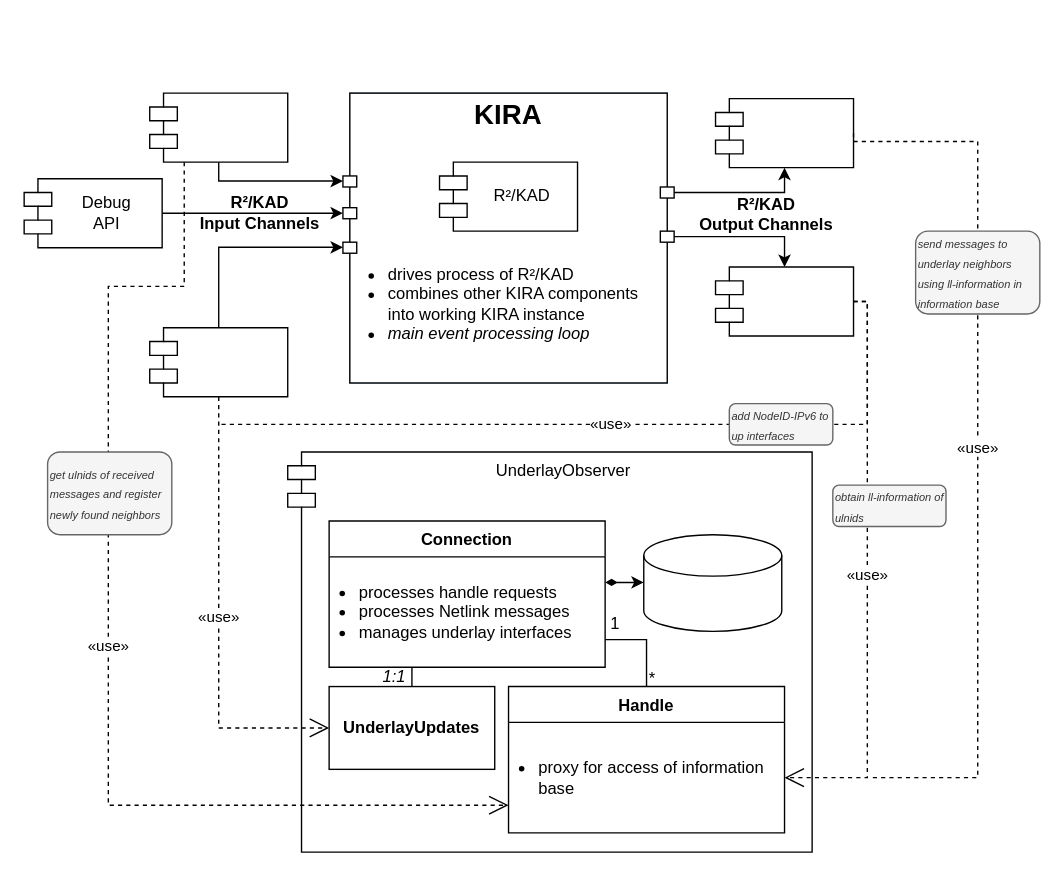
The diagram is 1064 pixels wide and 876 high, and some of its shapes have lost their labels. Here are the shapes that lost their labels. From the top down, the centre of each, then its label:
(x=218, y=127): Message Receiver
(x=784, y=132): Message Sender
(x=784, y=301): Forwarding
(x=218, y=361): Underlay Updates
(x=712, y=582): InformationBase
